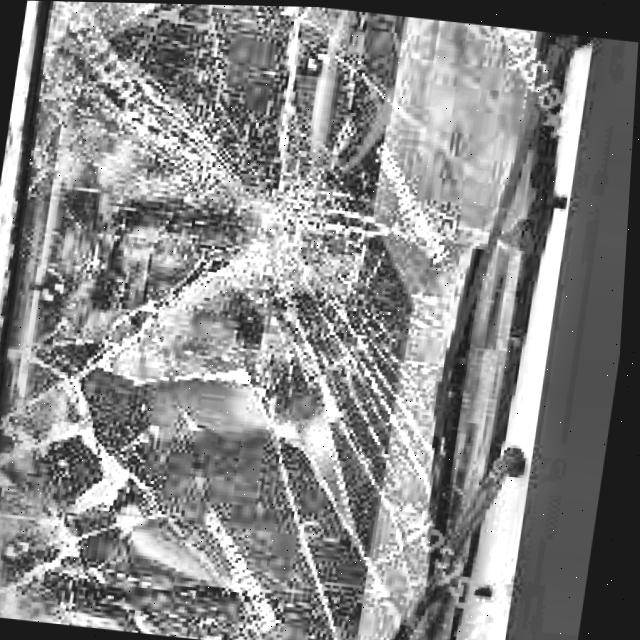glass_shatter: (180, 109, 394, 344), (0, 356, 147, 583)
